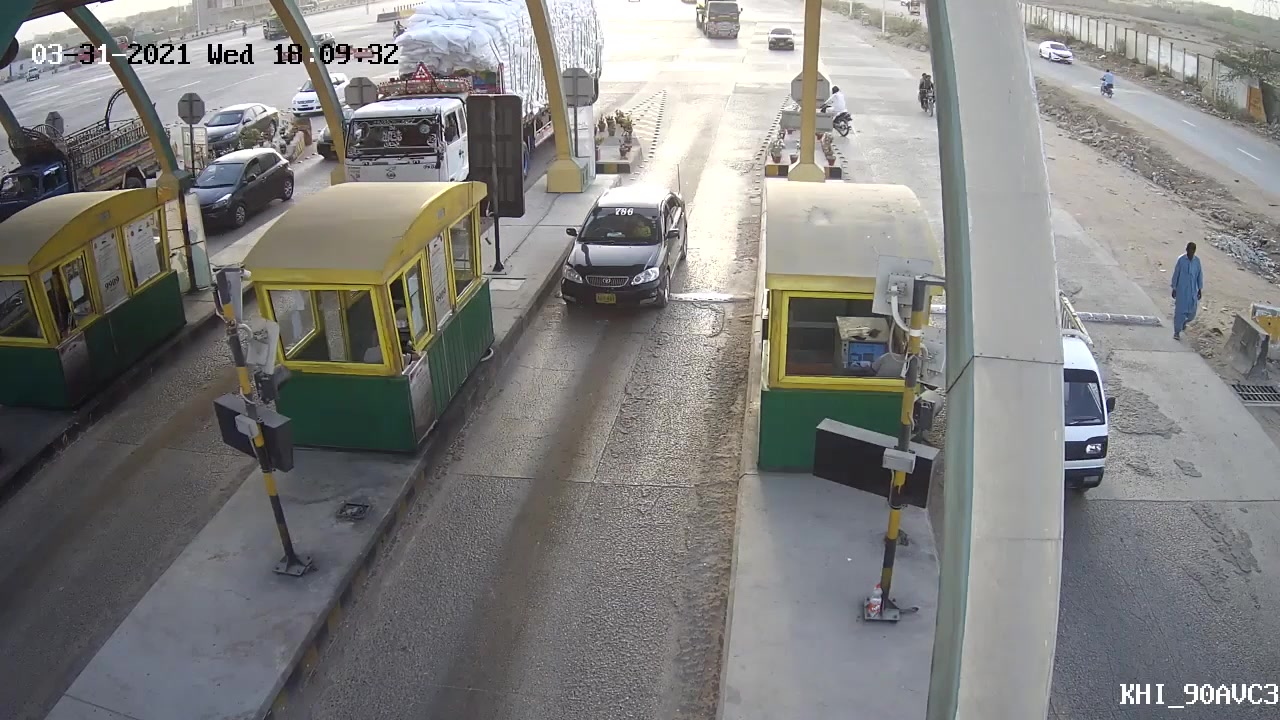F1: (551, 172, 694, 327)
